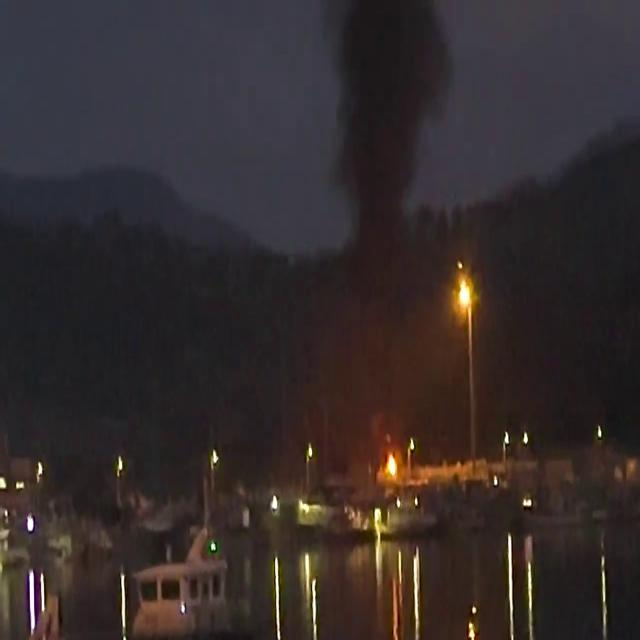Smoke: (311, 1, 457, 389)
